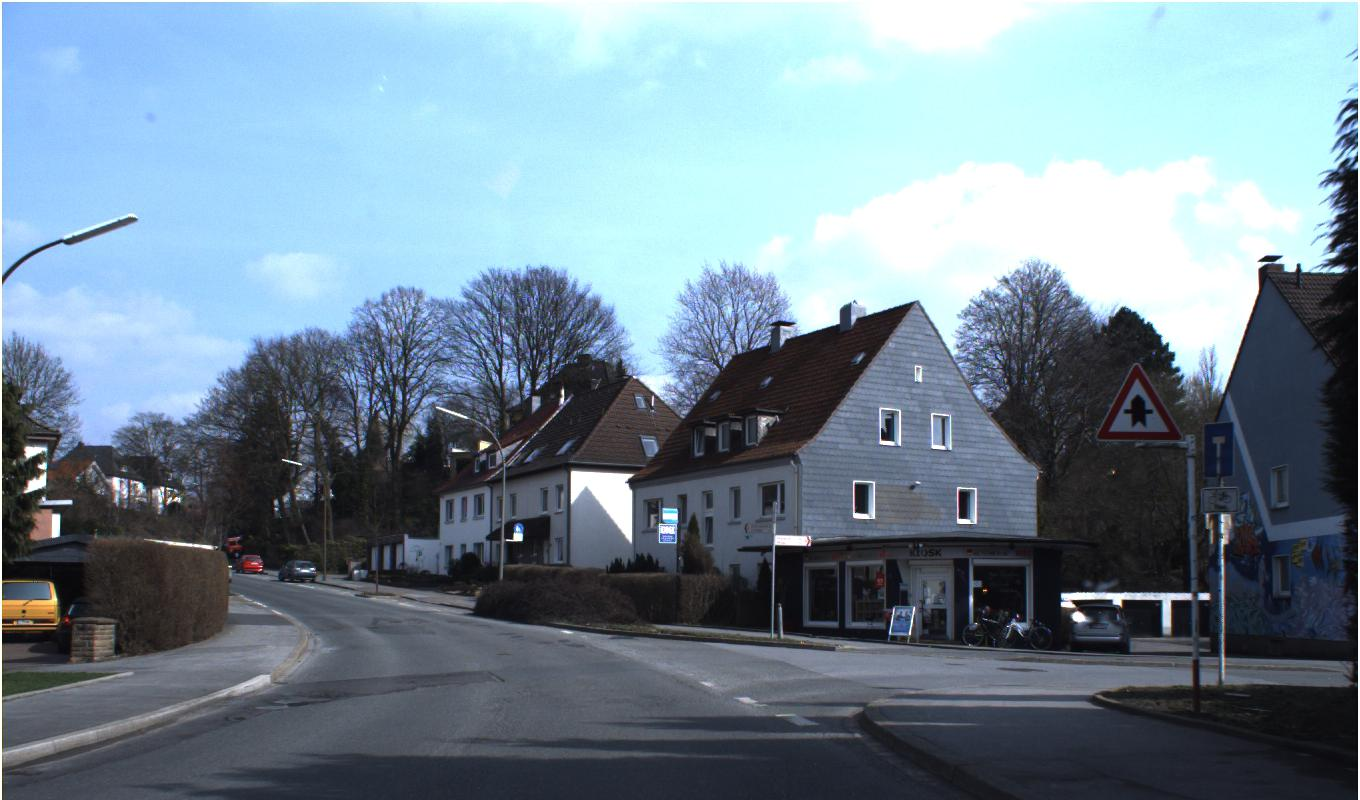danger: (1094, 362, 1184, 442)
